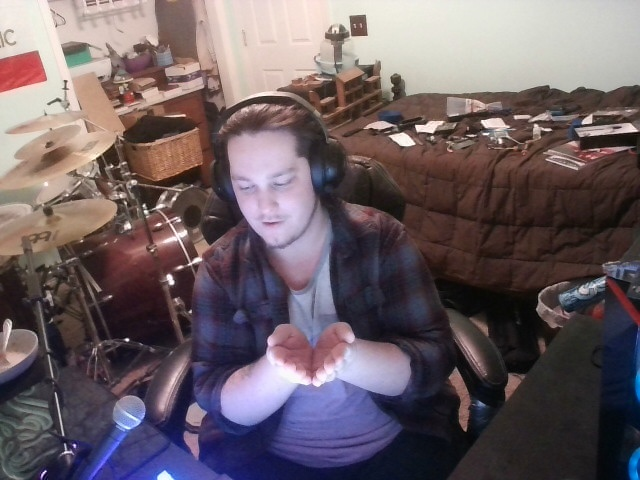book: (250, 317, 368, 395)
